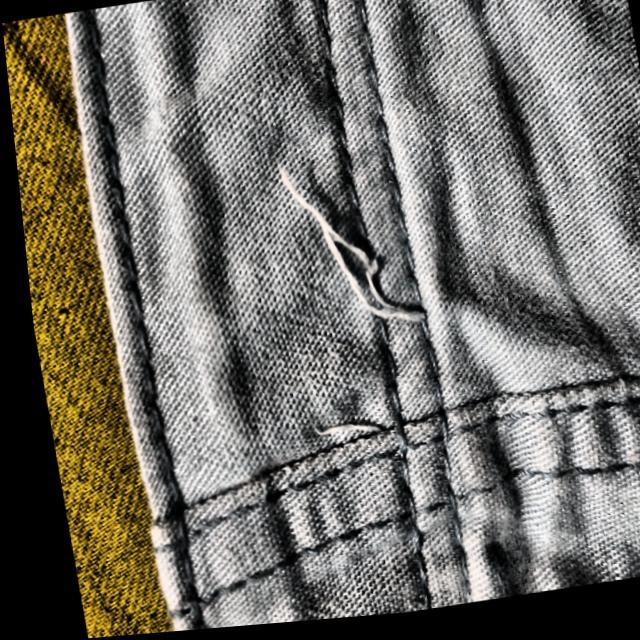Stitch: (247, 88, 463, 387), (296, 390, 392, 460)
